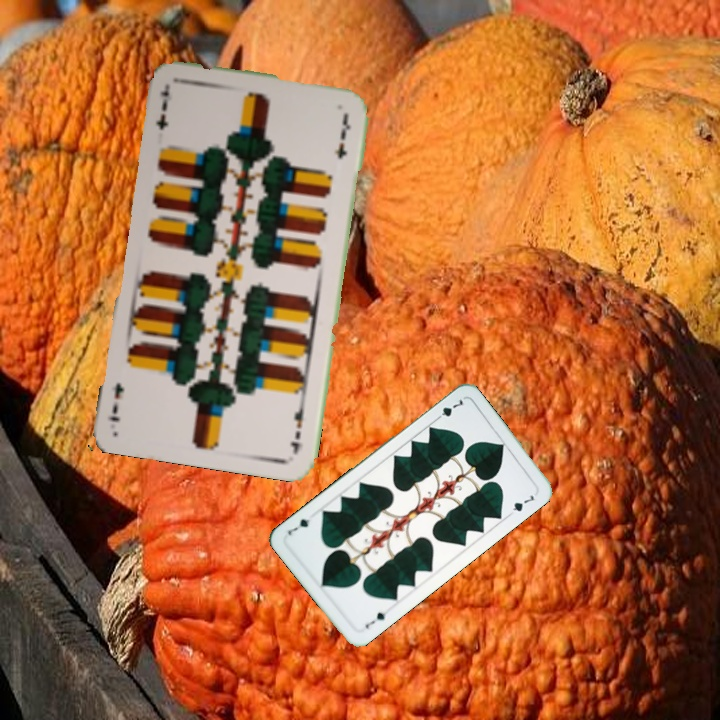E7: (286, 397, 308, 456), (151, 82, 172, 133)
G7: (431, 395, 465, 424), (361, 608, 388, 631)
